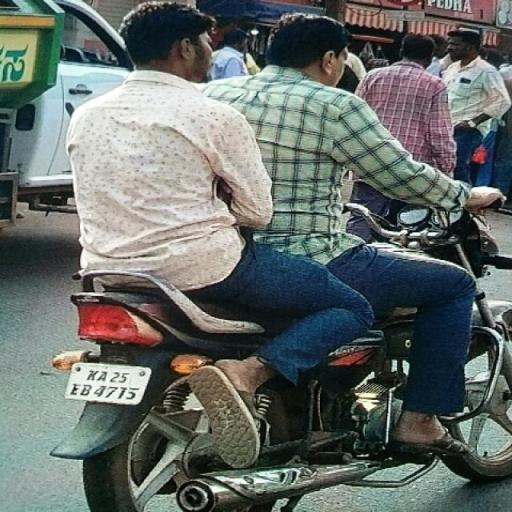bike: (46, 1, 512, 511)
numberplate: (67, 355, 153, 409)
withouthelmet: (124, 4, 212, 76), (270, 10, 342, 76)
